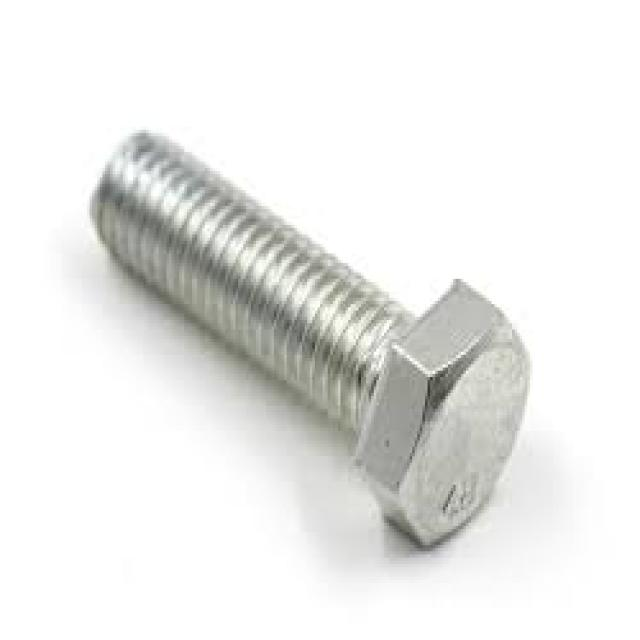metal: (87, 127, 527, 545)
